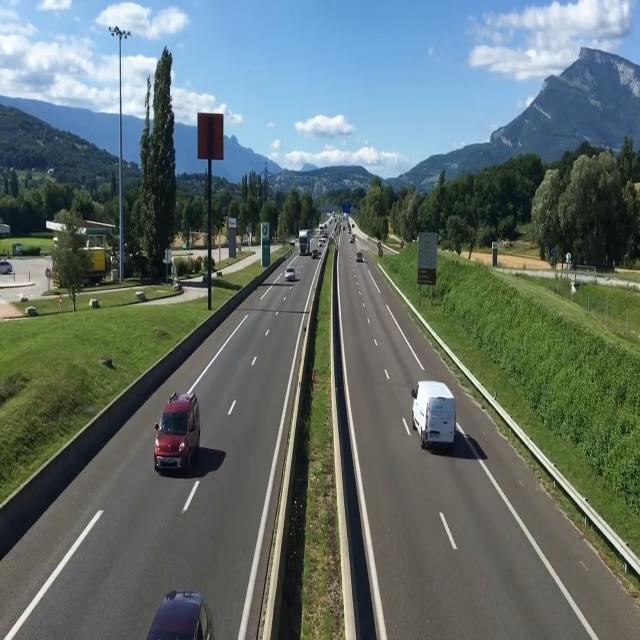car: (128, 583, 212, 640), (155, 388, 199, 476), (418, 384, 460, 458), (282, 260, 298, 288)
truck: (297, 222, 310, 264)
